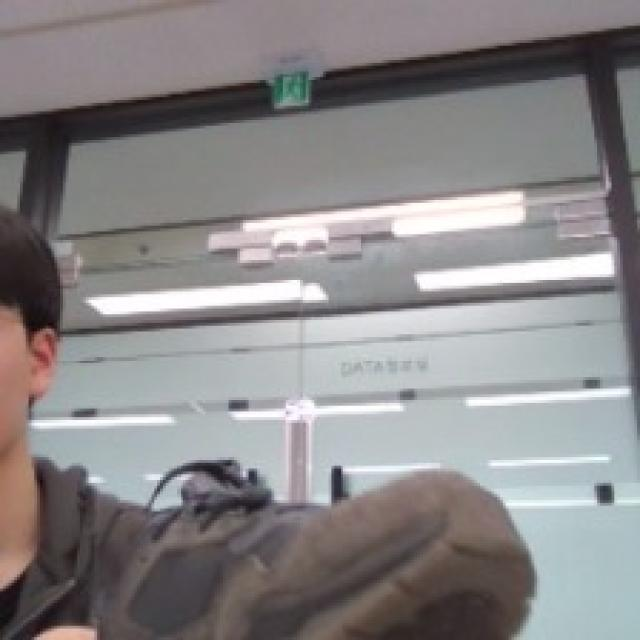shoe: (100, 448, 545, 640)
